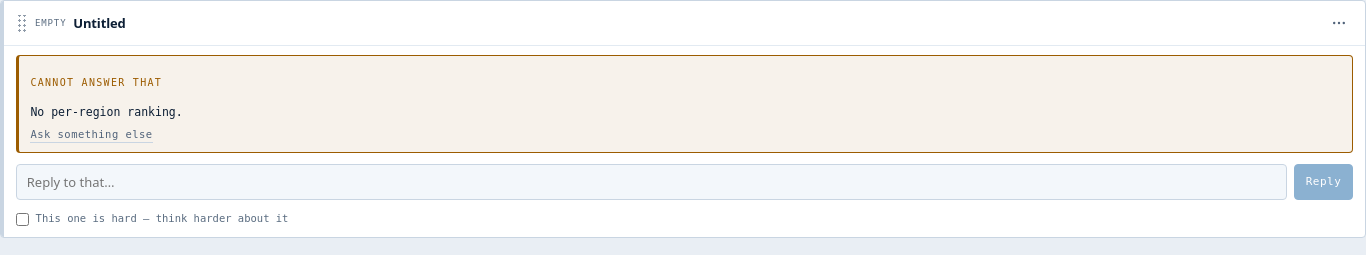
Card exchanges › persists walking away so the old exchange cannot return on reload
Click the button "Ask something else" at (92, 135), box left=30, top=127, right=153, bottom=143
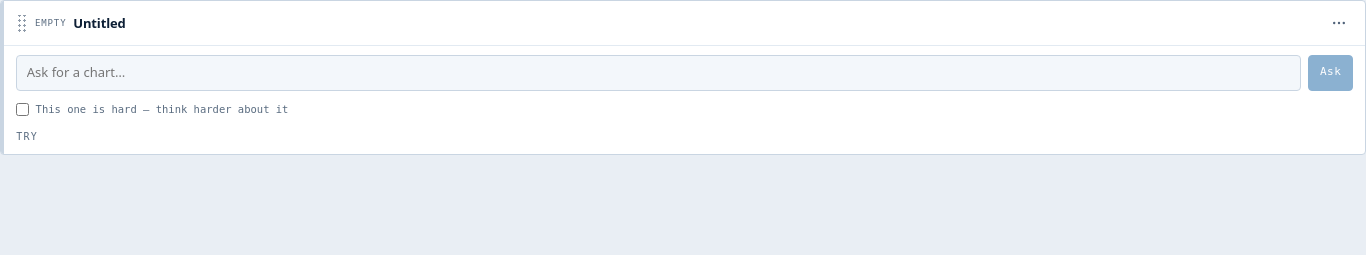
Check: the text "No per-region ranking." is gone
